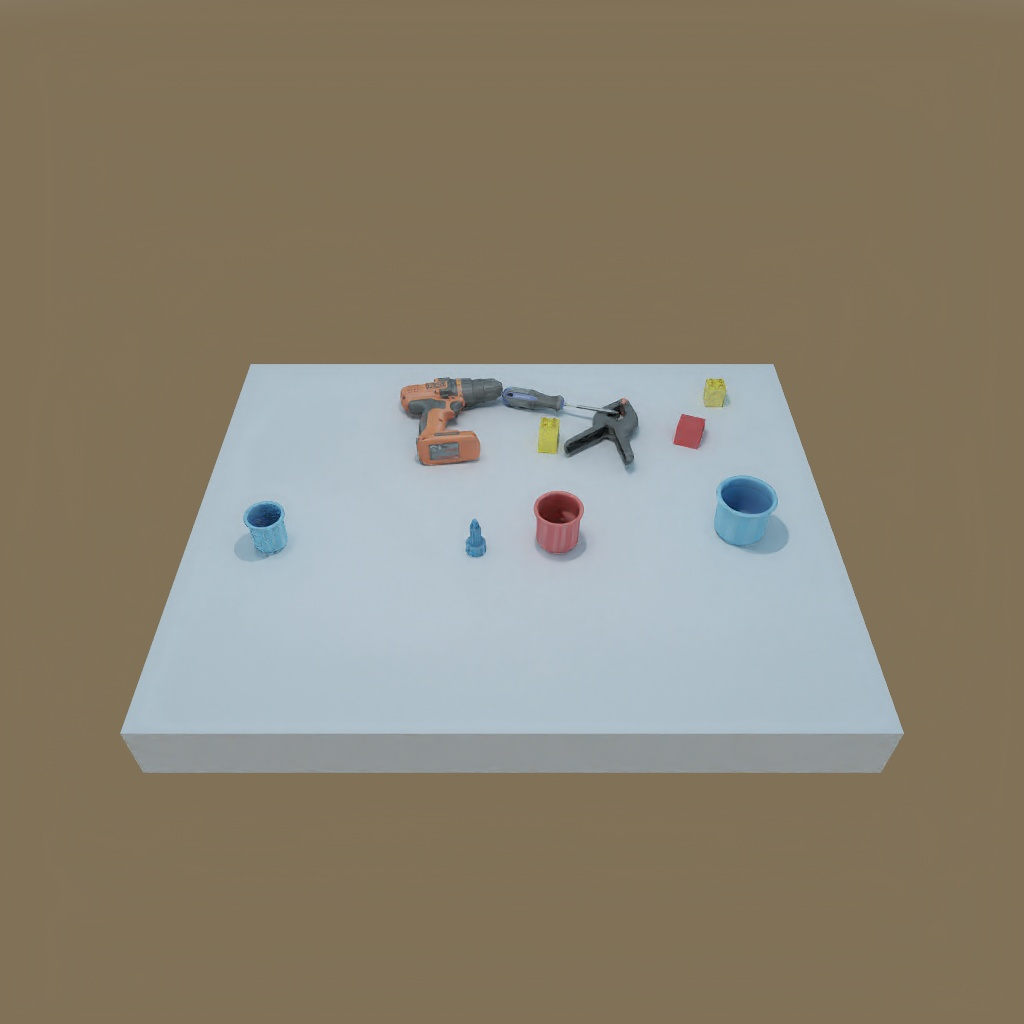power_drill: (402, 377, 499, 464)
